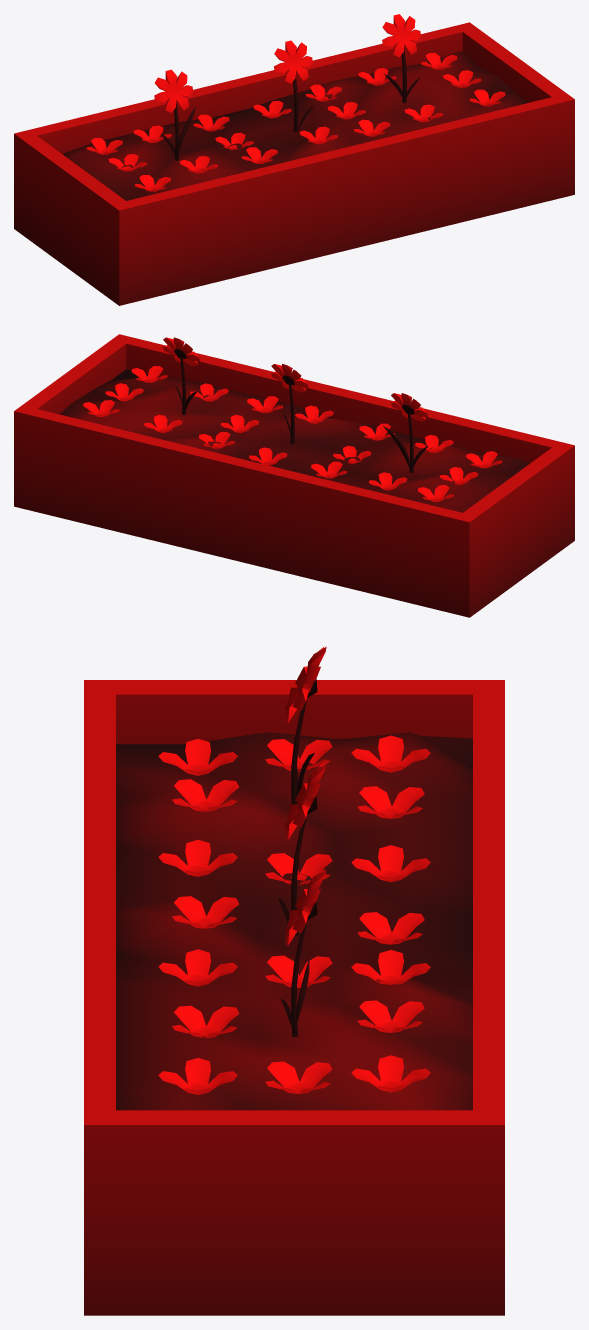
File: ConcreteFlowerBed.glb
The picture shows the model from 3 angles, top to bottom: view 1: azimuth 30°, elevation 25°; view 2: azimuth 150°, elevation 25°; view 3: azimuth 270°, elevation 25°; orthographic projection. The views are drawn at different scales.
Parts seen in each view (by area): view 1: ConcreteFlowerBed; view 2: ConcreteFlowerBed; view 3: ConcreteFlowerBed.
Boxes of the visible parts, x1,y1,x2,y2 form: ConcreteFlowerBed: (14, 14, 574, 305); ConcreteFlowerBed: (14, 334, 574, 617); ConcreteFlowerBed: (84, 646, 504, 1315).
Size of the model in its own units: 9.12 by 3.15 by 3.65.
